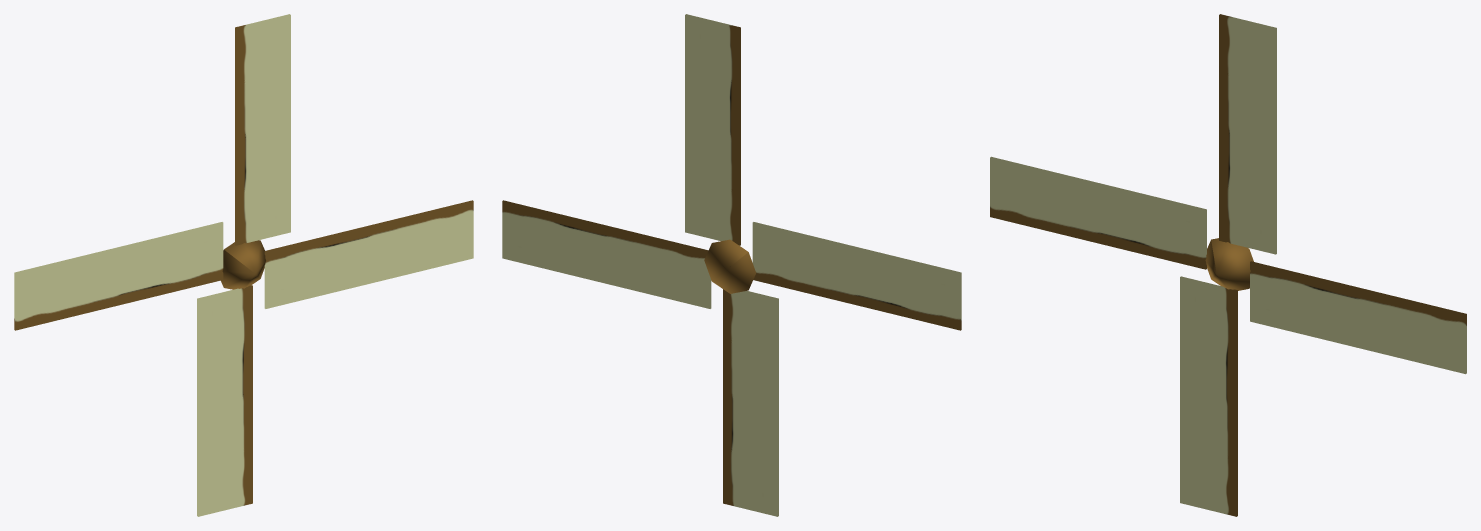
Rendered from windmill_wings.fbx.
3 views of the same model, side by side, from view 1: azimuth 30°, elevation 25°; view 2: azimuth 150°, elevation 25°; view 3: azimuth 330°, elevation 25° (orthographic). The views are drawn at different scales.
Parts seen in each view (by area): view 1: palas; view 2: palas; view 3: palas.
Boxes of the visible parts, x1,y1,x2,y2 form: palas: (14,14,473,516); palas: (502,14,961,516); palas: (990,14,1466,516).
Size of the model in its own units: 1268 by 1268 by 63.04.
